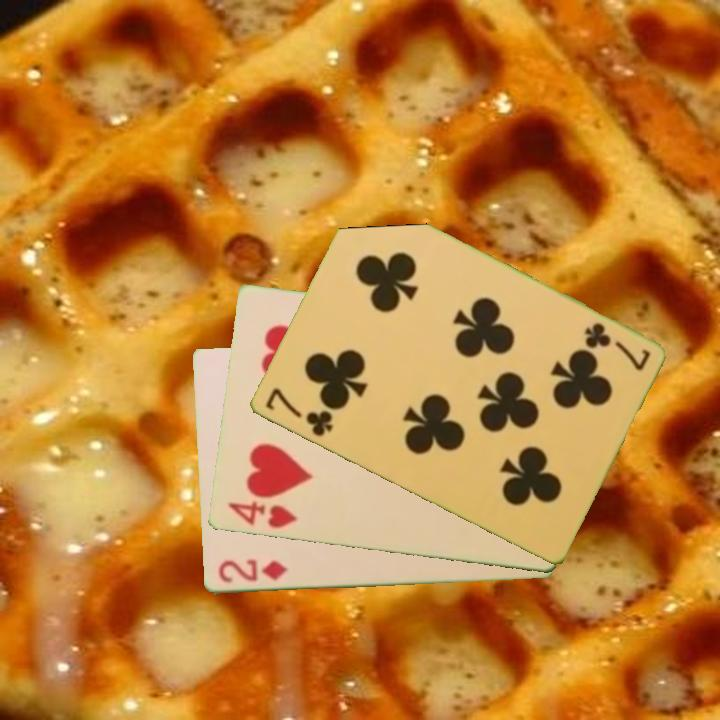2d: (215, 556, 291, 587)
4h: (223, 498, 299, 532)
7c: (261, 384, 336, 440), (580, 319, 653, 374)
